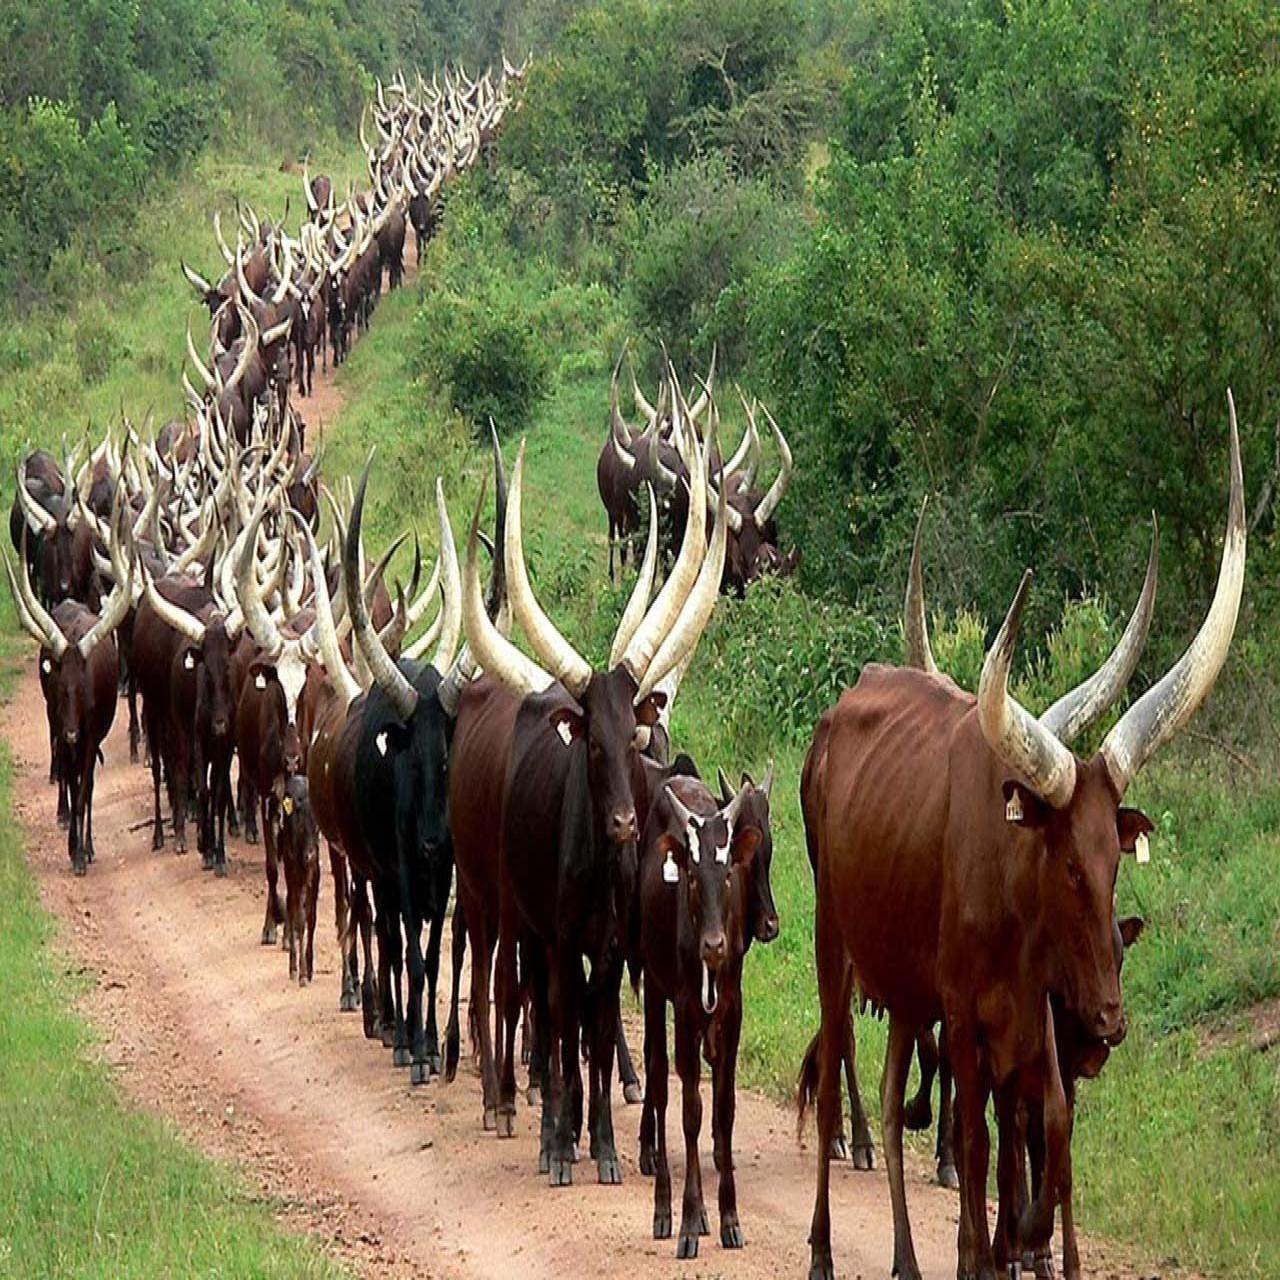cow: (796, 518, 1251, 1280), (449, 442, 697, 1235), (348, 632, 499, 1084), (641, 761, 764, 1267), (163, 615, 256, 880), (260, 692, 328, 1029)
